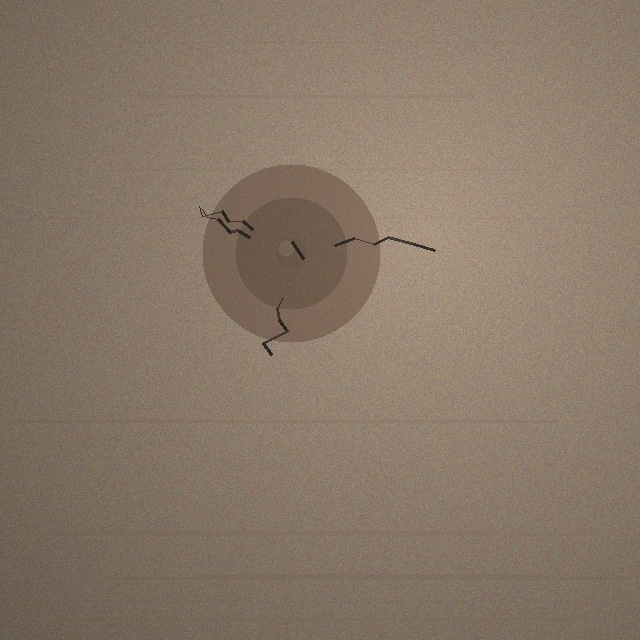crack: (202, 164, 380, 342)
